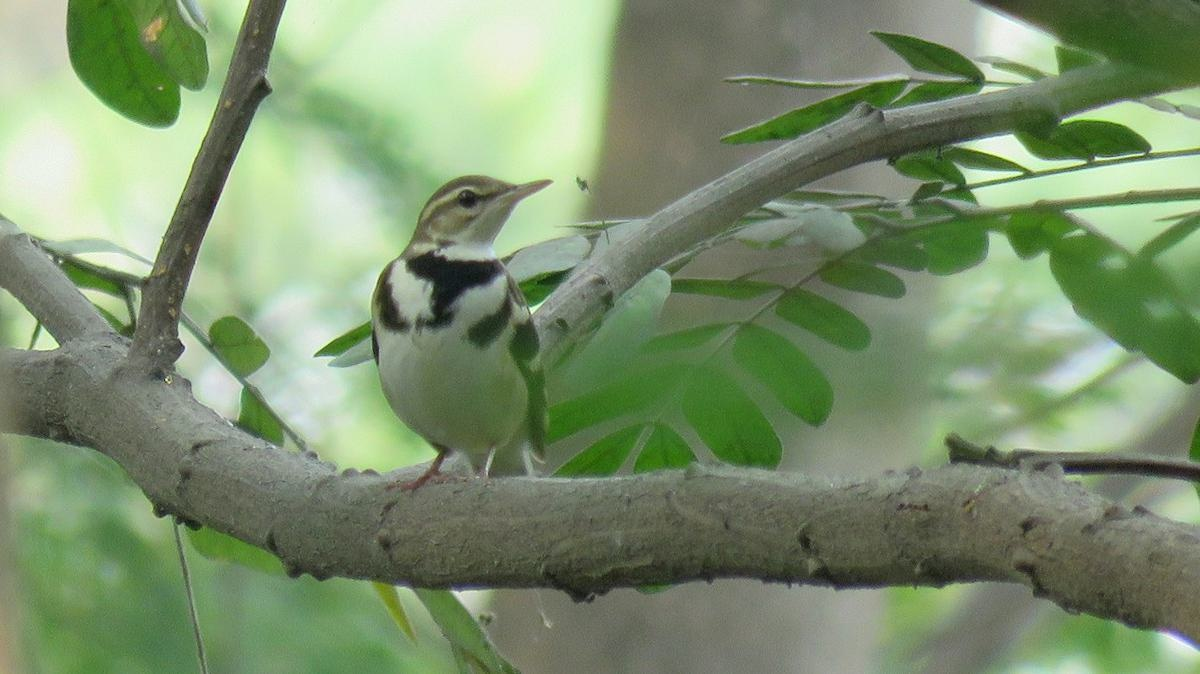wagtail: (356, 147, 645, 473)
